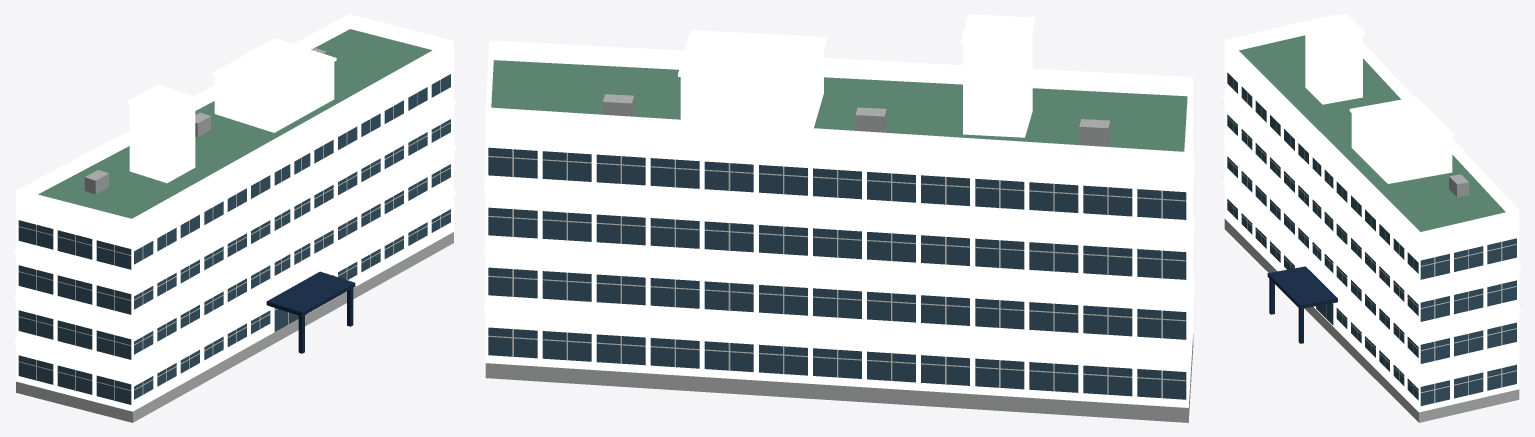
The picture shows the model from 3 angles, left to right: view 1: azimuth 30°, elevation 25°; view 2: azimuth 150°, elevation 25°; view 3: azimuth 270°, elevation 25°; orthographic projection. The views are drawn at different scales.
Visible parts, largest first — view 1: west__wall-plaster, west__glass, west__trim-concrete, west__roof, west__base-stone, west__frame, west__canopy-concrete, west__equipment; view 2: west__wall-plaster, west__glass, west__trim-concrete, west__roof, west__base-stone, west__frame, west__equipment; view 3: west__wall-plaster, west__trim-concrete, west__glass, west__roof, west__base-stone, west__frame, west__canopy-concrete, west__equipment.
Part boxes in pixels (left/top/right/bottom): west__wall-plaster: left=16, top=41, right=453, bottom=411; west__glass: left=18, top=74, right=450, bottom=404; west__trim-concrete: left=14, top=14, right=455, bottom=405; west__roof: left=38, top=29, right=432, bottom=218; west__base-stone: left=16, top=232, right=453, bottom=422; west__frame: left=18, top=79, right=451, bottom=400; west__canopy-concrete: left=266, top=271, right=355, bottom=353; west__equipment: left=84, top=48, right=326, bottom=194; west__wall-plaster: left=485, top=30, right=1193, bottom=407; west__glass: left=488, top=147, right=1186, bottom=399; west__trim-concrete: left=484, top=14, right=1194, bottom=400; west__roof: left=491, top=60, right=1187, bottom=151; west__base-stone: left=485, top=334, right=1193, bottom=422; west__frame: left=488, top=149, right=1186, bottom=398; west__equipment: left=602, top=94, right=1110, bottom=146; west__wall-plaster: left=1224, top=26, right=1519, bottom=412; west__trim-concrete: left=1223, top=14, right=1520, bottom=407; west__glass: left=1227, top=72, right=1516, bottom=405; west__roof: left=1239, top=35, right=1505, bottom=231; west__base-stone: left=1224, top=219, right=1519, bottom=422; west__frame: left=1227, top=78, right=1516, bottom=403; west__canopy-concrete: left=1267, top=266, right=1337, bottom=343; west__equipment: left=1449, top=174, right=1468, bottom=197.
Bounding box in the file's own units: 40.51 × 20.7 × 23.06.
